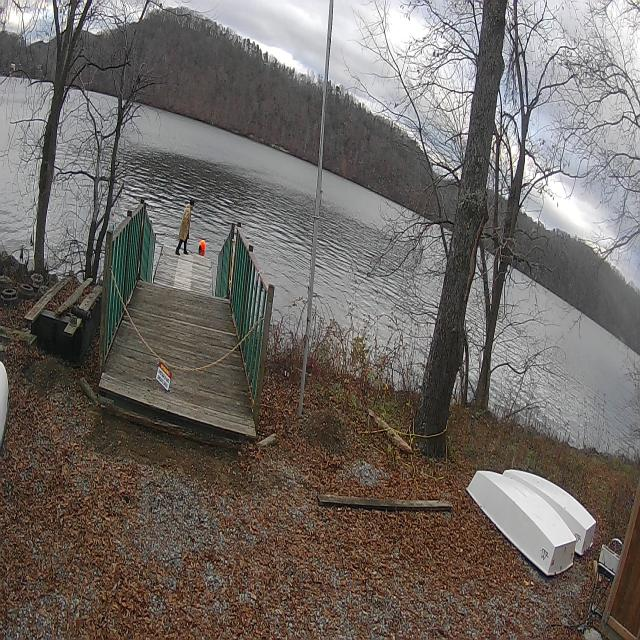Buoy: (198, 239, 206, 257)
